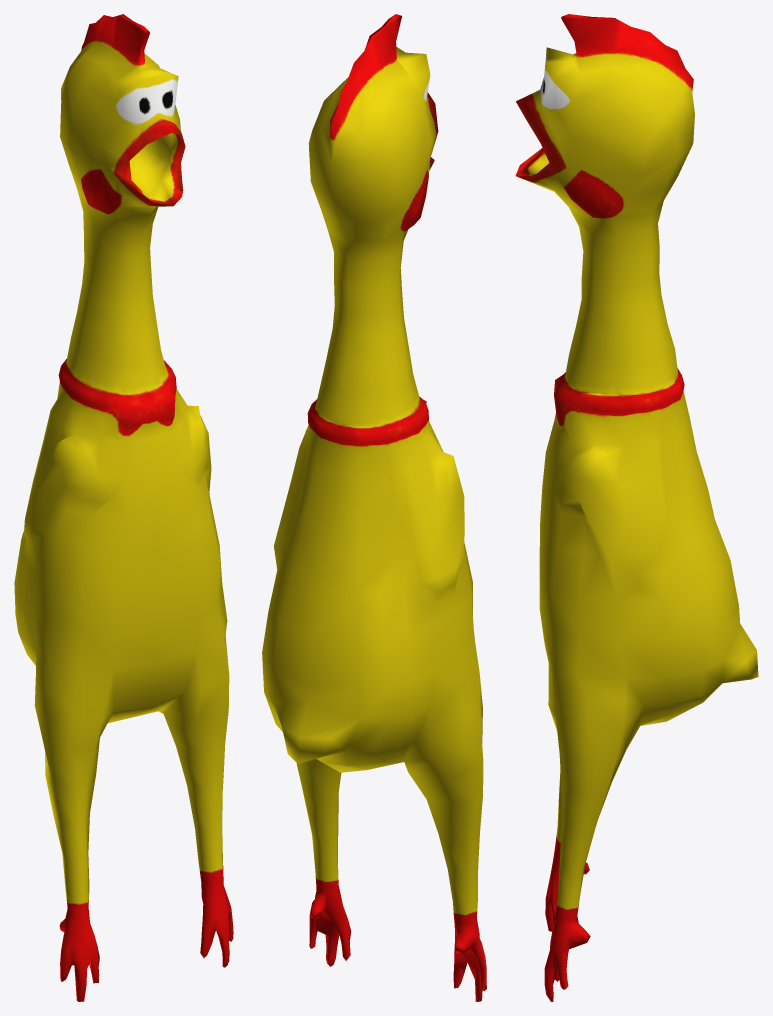
The model's file is chicken.glb.
The picture shows the model from 3 angles, left to right: view 1: azimuth 30°, elevation 25°; view 2: azimuth 150°, elevation 25°; view 3: azimuth 270°, elevation 25°; orthographic projection. The views are drawn at different scales.
Parts seen in each view (by area): view 1: chicken_retop_005:Object; view 2: chicken_retop_005:Object; view 3: chicken_retop_005:Object.
Boxes of the visible parts, x1,y1,x2,y2 form: chicken_retop_005:Object: (14,14,233,1001); chicken_retop_005:Object: (262,14,486,1001); chicken_retop_005:Object: (515,14,758,1001).
Size of the model in its own units: 0.0137 by 0.0667 by 0.0154.
1 material, 1 textured.
